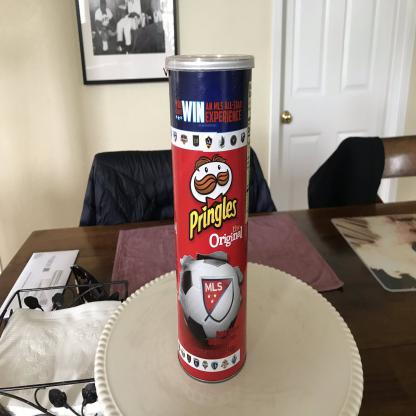potatochip: (164, 53, 258, 388)
